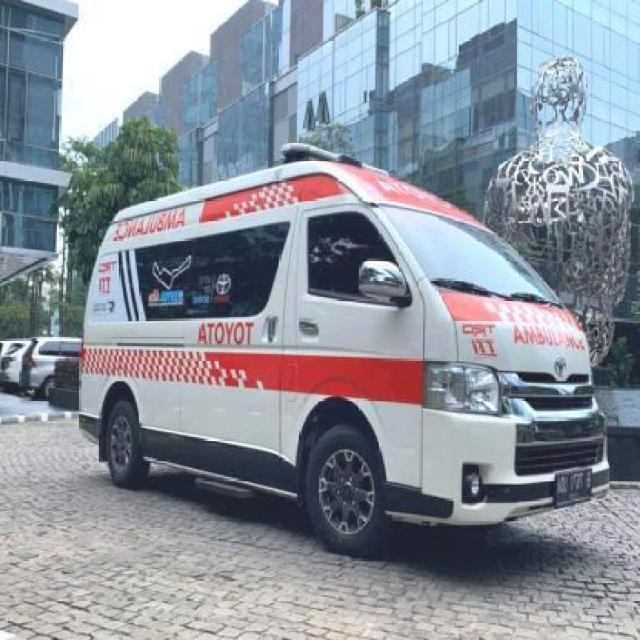emergency: (76, 141, 612, 557)
